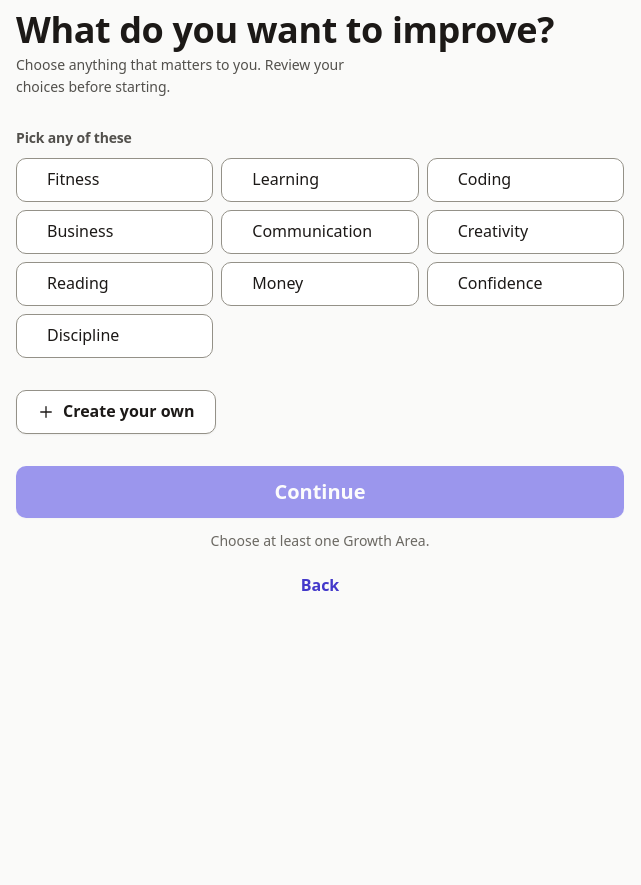
Test case: creating your own growth area › submits on Enter, without a mouse
Click the button "Create your own" at (116, 412), box [16,390,216,434]
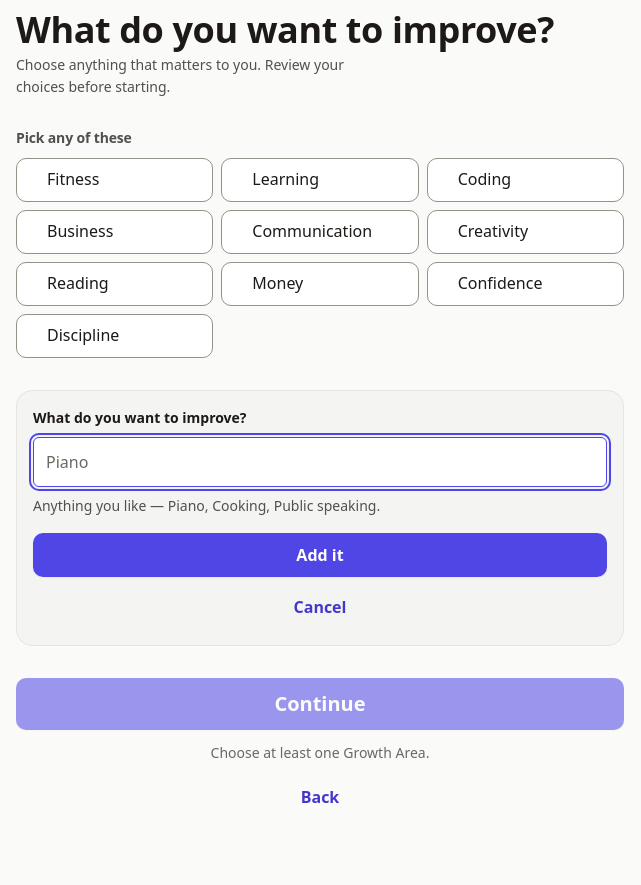
Type "Public speaking" into the field labelled "What do you want to improve?" at (320, 462), box [33,436,607,487]
Then press Enter
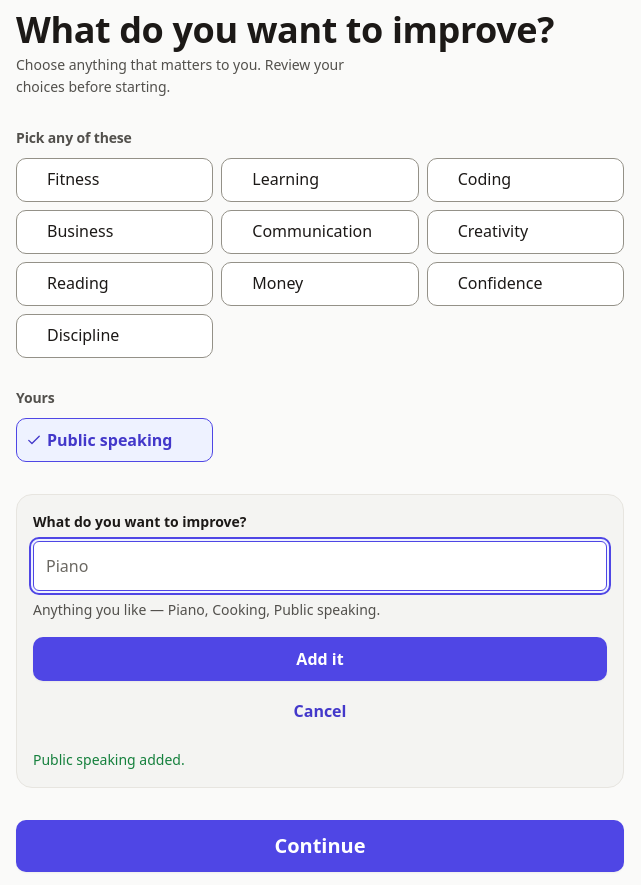
Now the button "Public speaking" is shown, box [16,418,213,462]
